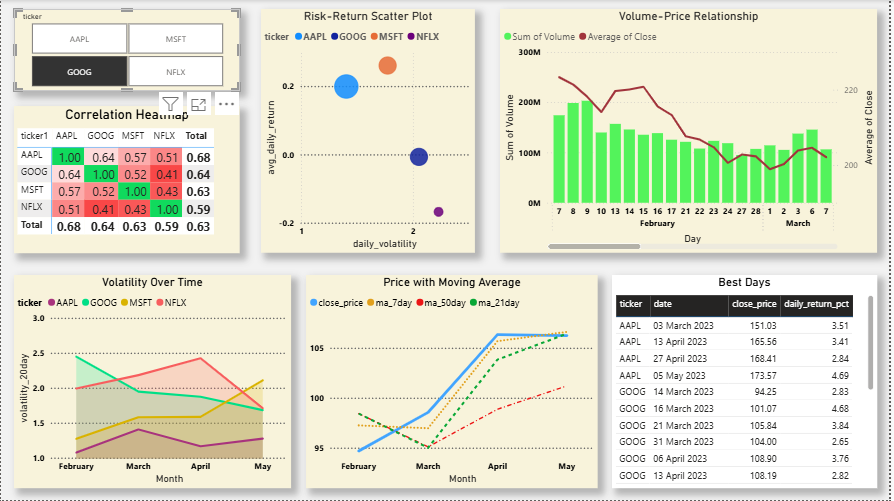

The dashboard page shown, as its layout file describes it:
{"tool":"powerbi","page":{"name":"TECHNICAL AND RISK ANALYSIS","canvas":[1280,720],"ordinal":1},"visuals":[{"type":"lineChart","title":"Price with Moving Average","fields":{"Category":["all_moving_averages.date.Variation.Date Hierarchy.Month","all_moving_averages.date.Variation.Date Hierarchy.Day"],"Y":["Avg(all_moving_averages.close_price)","Avg(all_moving_averages.ma_7day)","Avg(all_moving_averages.ma_50day)","Avg(all_moving_averages.ma_21day)"]},"box":[439.2,396,420.5,306.7],"z":0},{"type":"slicer","fields":{"Values":["all_moving_averages.ticker"]},"box":[18.7,13,325.4,118.1],"z":1},{"type":"areaChart","title":"Volatility Over Time","fields":{"Category":["volatility_analysis.date.Variation.Date Hierarchy.Month"],"Y":["Avg(volatility_analysis.volatility_20day)"],"Series":["volatility_analysis.ticker"]},"box":[18.7,396,398.9,306.7],"z":2},{"type":"lineClusteredColumnComboChart","title":"Volume-Price Relationship","fields":{"Y2":["Avg(stocks.Close)"],"Category":["stocks.Date.Variation.Date Hierarchy.Month","stocks.Date.Variation.Date Hierarchy.Day"],"Y":["Sum(stocks.Volume)"]},"box":[718.6,13,542.9,351.4],"z":3},{"type":"pivotTable","title":"Correlation Heatmap","fields":{"Rows":["correlation_matrix.ticker1"],"Columns":["correlation_matrix.ticker2"],"Values":["Avg(correlation_matrix.correlation)"]},"box":[18.7,152.6,325.4,211.7],"z":4},{"type":"scatterChart","title":"Risk-Return Scatter Plot","fields":{"X":["risk_return_profile.daily_volatility"],"Y":["Avg(risk_return_profile.avg_daily_return)"],"Series":["risk_return_profile.ticker"],"Size":["Avg(stocks.Volume)"]},"box":[374.4,13,308.2,351.4],"z":5},{"type":"tableEx","title":"Best Days","fields":{"Values":["best_days.ticker","best_days.date","best_days.close_price","best_days.daily_return_pct"]},"box":[879.8,396,381.6,306.7],"z":6}]}

Visuals, with their boxes in screenshot pixels (x1, y1, x2, y2), scaled from the page's 1280x720 canvas onto the 894x501 screenshot:
"Price with Moving Average" lineChart: (left=307, top=276, right=600, bottom=489)
slicer - all_moving_averages.ticker: (left=13, top=9, right=240, bottom=91)
"Volatility Over Time" areaChart: (left=13, top=276, right=292, bottom=489)
"Volume-Price Relationship" lineClusteredColumnComboChart: (left=502, top=9, right=881, bottom=254)
"Correlation Heatmap" pivotTable: (left=13, top=106, right=240, bottom=253)
"Risk-Return Scatter Plot" scatterChart: (left=261, top=9, right=477, bottom=254)
"Best Days" tableEx: (left=614, top=276, right=881, bottom=489)
